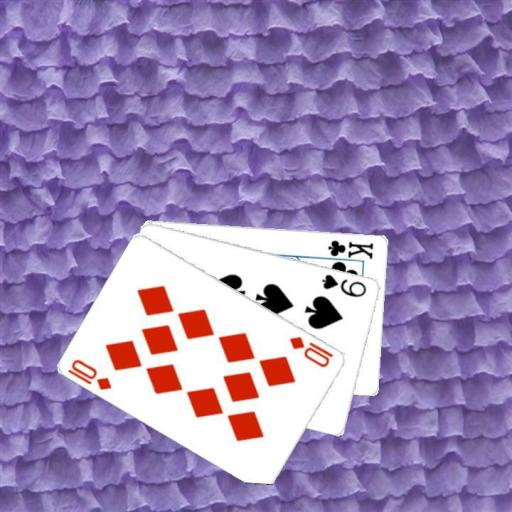10D: (65, 355, 114, 392), (287, 333, 335, 369)
9S: (319, 271, 369, 299)
KC: (320, 237, 375, 264)
